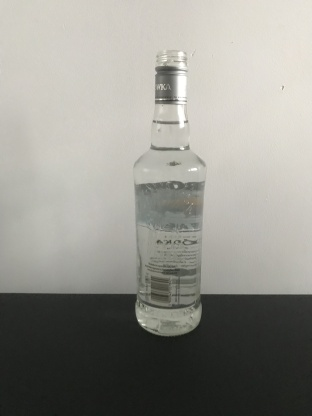nakretka: (152, 48, 190, 105), (153, 47, 188, 106)
